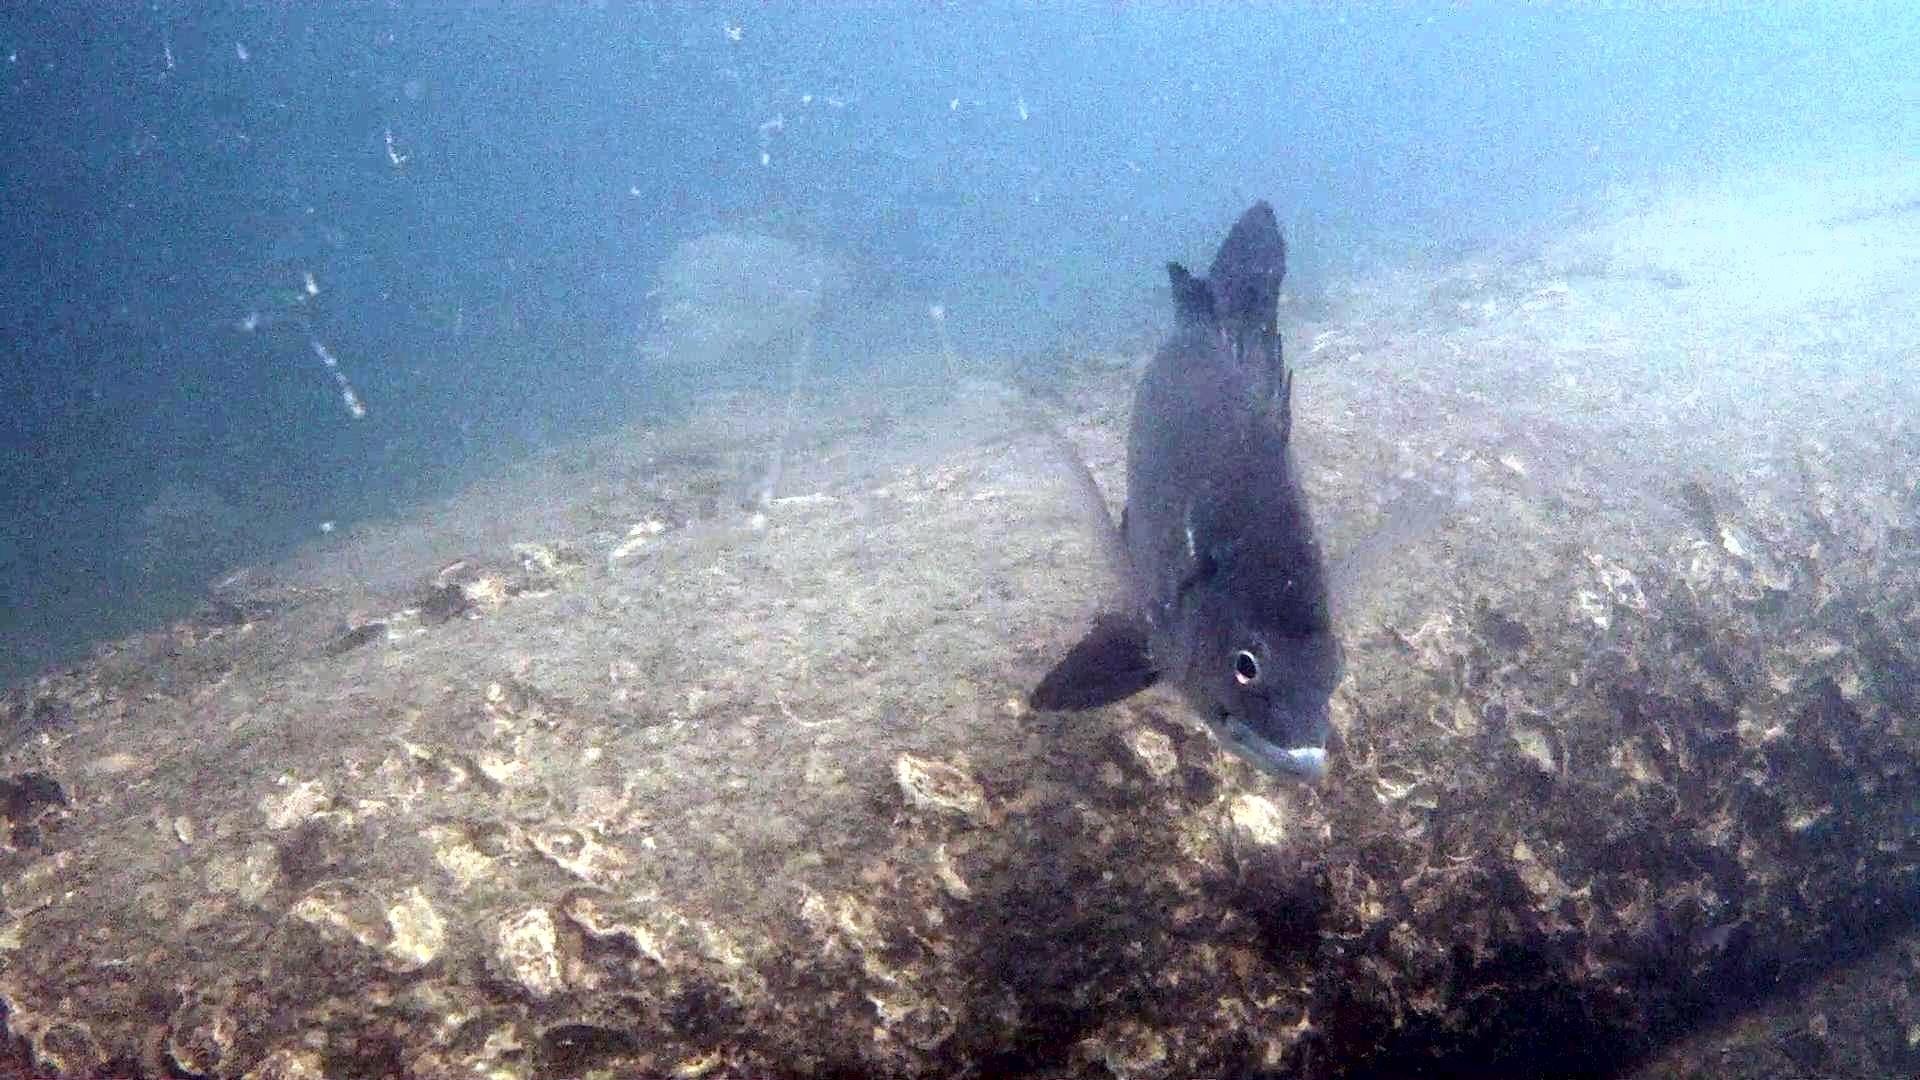acanthopagrus palmaris: (993, 193, 1466, 796)
